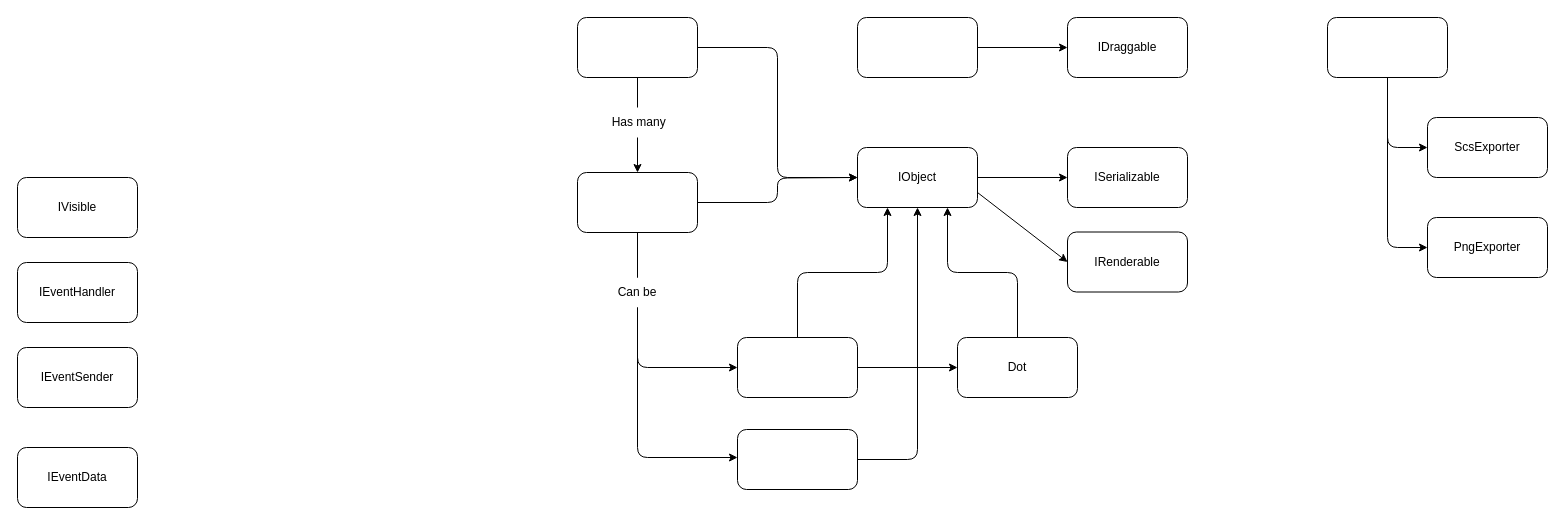
This 1565x525 diagram has some shape labels left out. Here are the shapes that lost their labels. From the top down, the centre of each, then its label:
At (x=637, y=47): "Canvas".
At (x=917, y=47): "SelectionBox".
At (x=1387, y=47): "Exporter".
At (x=637, y=202): "Placeable".
At (x=797, y=367): "Line".
At (x=797, y=459): "Polyline".
